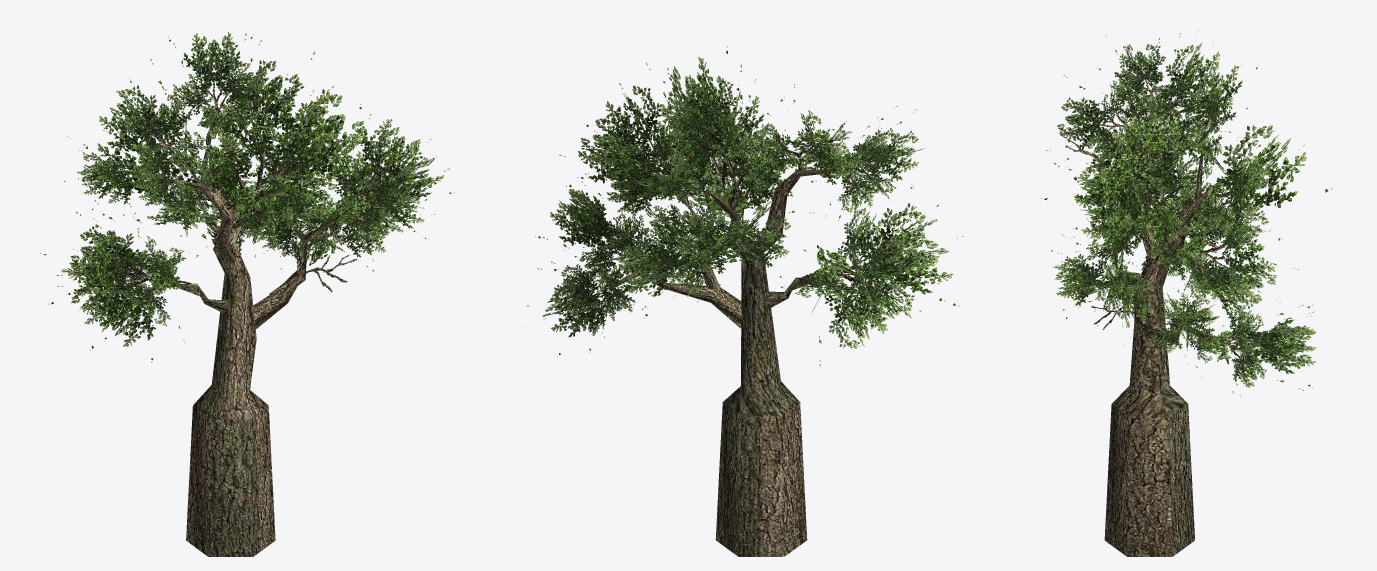
The model's file is roble_e.glb.
3 views of the same model, side by side, from view 1: azimuth 30°, elevation 25°; view 2: azimuth 150°, elevation 25°; view 3: azimuth 270°, elevation 25° (orthographic). The views are drawn at different scales.
Parts seen in each view (by area): view 1: Copa, Tronco; view 2: Copa, Tronco; view 3: Copa, Tronco.
Boxes of the visible parts, box(x1,y1,x2,y2) form: Copa: box(40, 32, 454, 362); Tronco: box(113, 79, 388, 556); Copa: box(527, 46, 963, 365); Tronco: box(589, 117, 884, 556); Copa: box(1041, 30, 1332, 397); Tronco: box(1059, 78, 1263, 556).
Bounding box in the file's own units: 11.43 × 12.85 × 8.08.
Materials: 2 (2 with a texture image).
